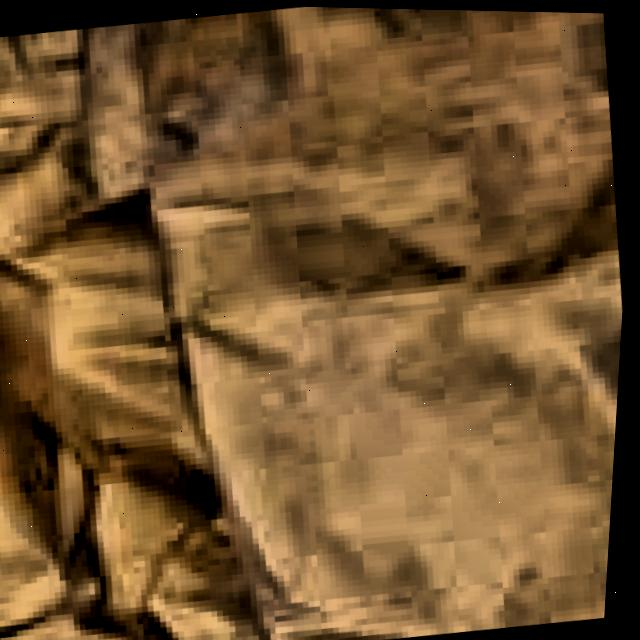paper: (0, 5, 626, 640)
